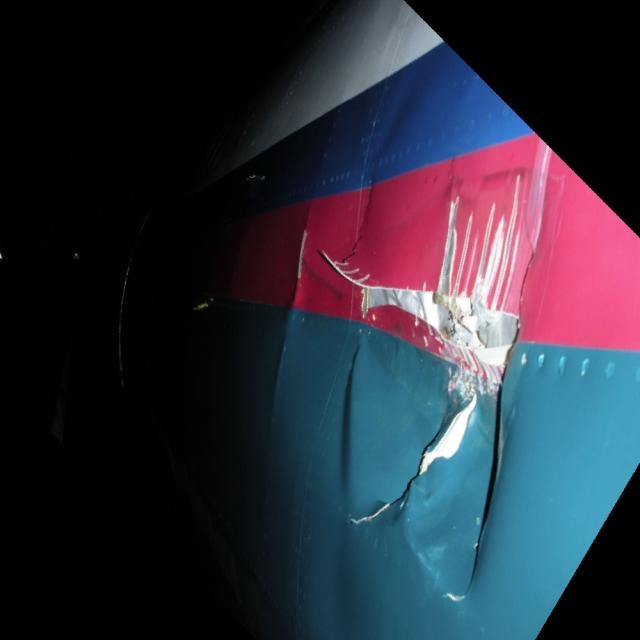crack: (352, 393, 482, 524)
dent: (405, 476, 477, 546)
